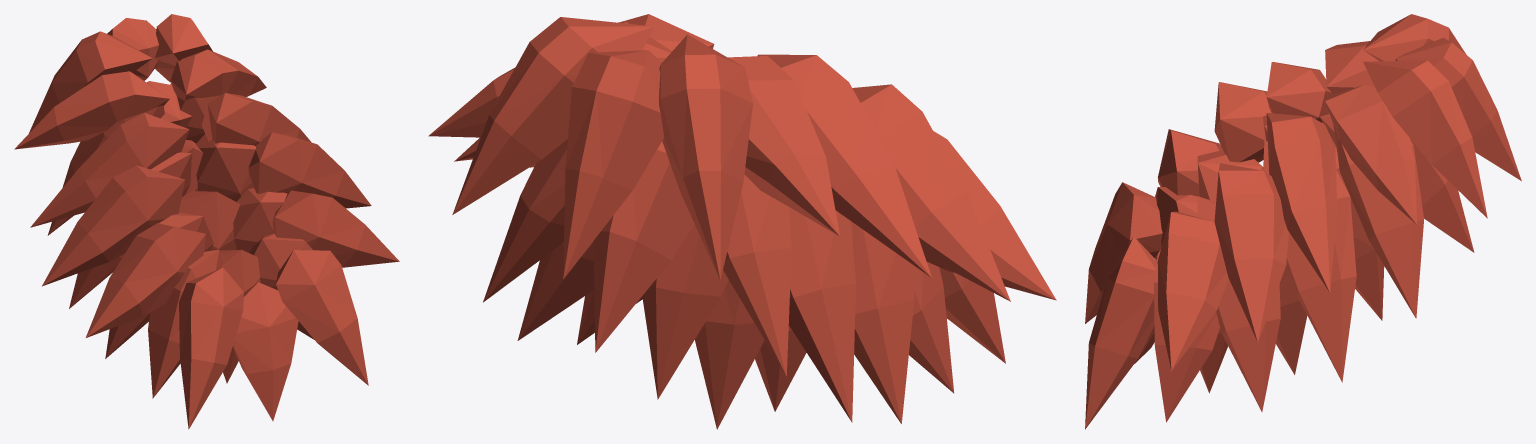
The model's file is BR_Sandslash-Shiny01.obj.
3 renders of one model, left to right at view 1: azimuth 30°, elevation 25°; view 2: azimuth 150°, elevation 25°; view 3: azimuth 270°, elevation 25°, orthographic. The views are drawn at different scales.
Visible parts, largest first — view 1: sandpan; view 2: sandpan; view 3: sandpan.
Boxes of the visible parts, x1,y1,x2,y2 form: sandpan: (14, 14, 399, 429); sandpan: (428, 14, 1056, 429); sandpan: (1085, 14, 1521, 429).
Bounding box in the file's own units: 9.19 × 7.95 × 8.76.
1 material, 1 textured.
